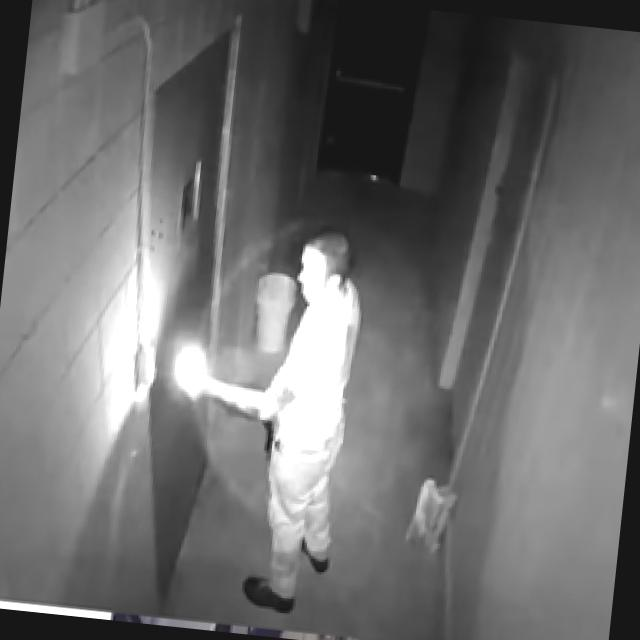person: (165, 220, 372, 618)
